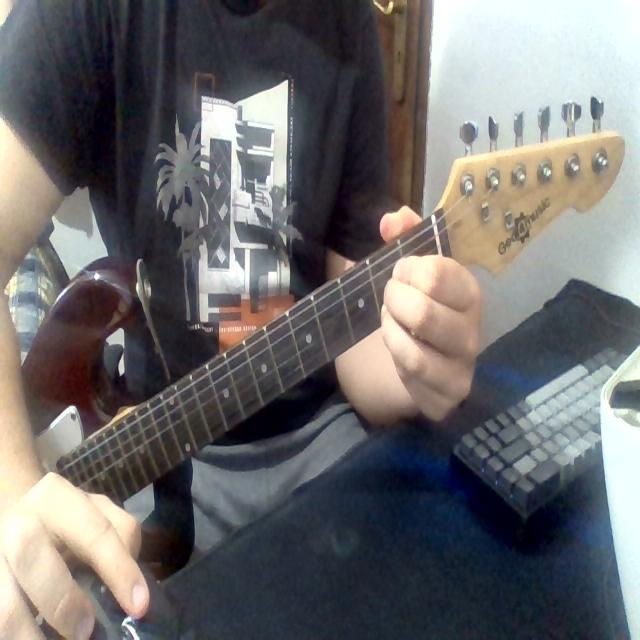A: (352, 225, 452, 360)
